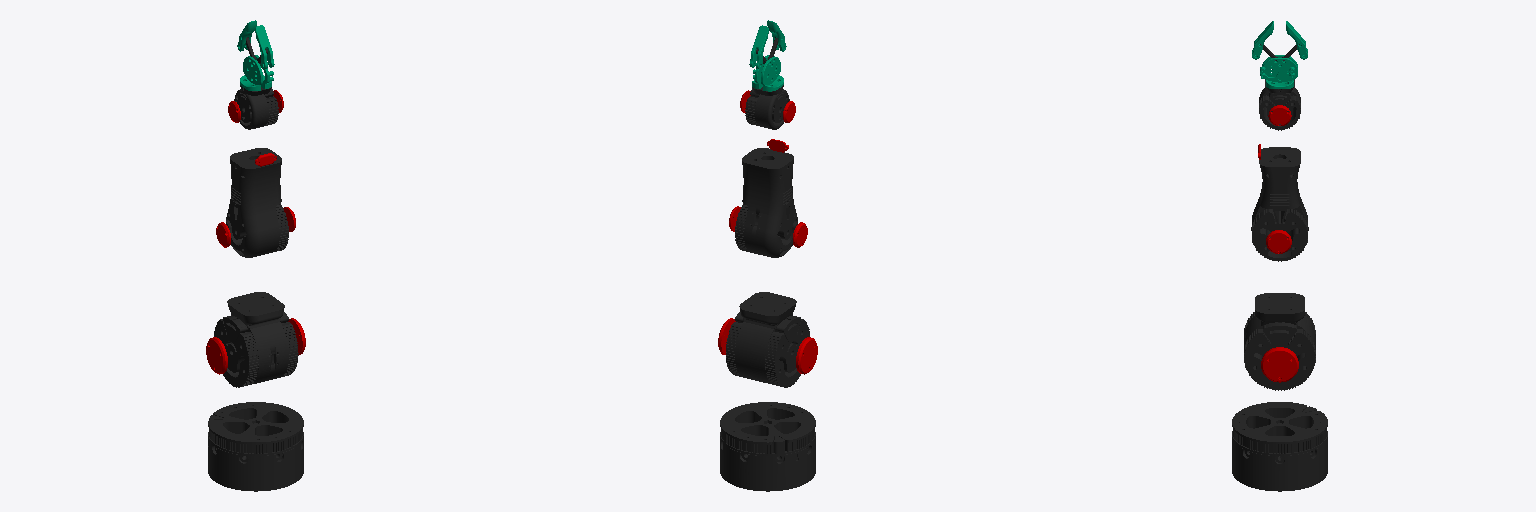
robot.urdf — moveotn:
<?xml version="1.0"?>
<!-- created with Phobos 0.7 -->
  <robot name="moveotn">

    <link name="base_link">
      <inertial>
        <origin xyz="0 0.033333 0.032917" rpy="0 0 0"/>
        <mass value="0.6"/>
        <inertia ixx="0.004398" ixy="0" ixz="0" iyy="0.001065" iyz="-4.2e-05" izz="0.005028"/>
      </inertial>
      <visual name="1M2.000">
        <origin xyz="0 0 0" rpy="0 0 0"/>
        <geometry>
          <mesh filename="package://moveo/meshes/dae/1M2.001.dae" scale="0.001 0.001 0.001"/>
        </geometry>
        <material name="cool"/>
      </visual>
      <visual name="1M3.001">
        <origin xyz="0 0.2 0" rpy="0 0 0"/>
        <geometry>
          <mesh filename="package://moveo/meshes/dae/1M3.dae" scale="0.001 0.001 0.001"/>
        </geometry>
        <material name="cool"/>
      </visual>
      <collision name="Cube">
        <origin xyz="0 0.2 0.035" rpy="0 0 0"/>
        <geometry>
          <box size="0.0753 0.0753 0.07"/>
        </geometry>
      </collision>
      <collision name="Cylinder">
        <origin xyz="0 0 0.0325" rpy="0 0 0"/>
        <geometry>
          <cylinder radius="0.08" length="0.065"/>
        </geometry>
      </collision>
    </link>

    <link name="elbow_link">
      <inertial>
        <origin xyz="0 0 0.0445" rpy="0 0 0"/>
        <mass value="1.2"/>
        <inertia ixx="0.003556" ixy="0" ixz="0" iyy="0.003551" iyz="0" izz="0.001176"/>
      </inertial>
      <visual name="3M2">
        <origin xyz="0 0 0" rpy="0 0 0"/>
        <geometry>
          <mesh filename="package://moveo/meshes/dae/3M2.dae" scale="0.001 0.001 0.001"/>
        </geometry>
        <material name="cool"/>
      </visual>
      <visual name="3M2C">
        <origin xyz="0 0 0" rpy="0 0 0"/>
        <geometry>
          <mesh filename="package://moveo/meshes/dae/3M2C.dae" scale="0.001 0.001 0.001"/>
        </geometry>
        <material name="cool"/>
      </visual>
      <collision name="Cube.002">
        <origin xyz="0 0 0.0885" rpy="0 0 0"/>
        <geometry>
          <box size="0.078 0.07 0.077"/>
        </geometry>
      </collision>
      <collision name="Cylinder.004">
        <origin xyz="0 0 0.0005" rpy="0 1.570796 0"/>
        <geometry>
          <cylinder radius="0.048" length="0.075"/>
        </geometry>
      </collision>
    </link>

    <link name="gripper">
      <inertial>
        <origin xyz="0 0 0.049375" rpy="0 0 0"/>
        <mass value="0.2"/>
        <inertia ixx="0.000791" ixy="0" ixz="0" iyy="0.000677" iyz="0" izz="0.000194"/>
      </inertial>
      <visual name="4M2">
        <origin xyz="0 0 0" rpy="0 0 0"/>
        <geometry>
          <mesh filename="package://moveo/meshes/dae/4M2.dae" scale="0.001 0.001 0.001"/>
        </geometry>
        <material name="cool"/>
      </visual>
      <visual name="4M2C">
        <origin xyz="0 0 0" rpy="0 0 0"/>
        <geometry>
          <mesh filename="package://moveo/meshes/dae/4M2C.dae" scale="0.001 0.001 0.001"/>
        </geometry>
        <material name="cool"/>
      </visual>
      <visual name="Bottom Plate">
        <origin xyz="0.003 0 0.041" rpy="0 0 0"/>
        <geometry>
          <mesh filename="package://moveo/meshes/dae/Bottom Plate.dae" scale="0.001 0.001 0.001"/>
        </geometry>
      </visual>
      <visual name="Gripper Left">
        <origin xyz="0 0.040287 0.095251" rpy="0 -0.895633 -1.570796"/>
        <geometry>
          <mesh filename="package://moveo/meshes/dae/Gripper Right.dae" scale="0.001 0.001 0.001"/>
        </geometry>
      </visual>
      <visual name="Gripper Right">
        <origin xyz="0 -0.040162 0.095217" rpy="0 -0.903294 1.570796"/>
        <geometry>
          <mesh filename="package://moveo/meshes/dae/Gripper Right.dae" scale="0.001 0.001 0.001"/>
        </geometry>
      </visual>
      <visual name="Idol Gear">
        <origin xyz="0 0.014 0.065" rpy="-0.715585 0 0"/>
        <geometry>
          <mesh filename="package://moveo/meshes/dae/Idol Gear.dae" scale="0.001 0.001 0.001"/>
        </geometry>
        <material name="cool"/>
      </visual>
      <visual name="Pivot Arm L">
        <origin xyz="0 -0.0202 0.1" rpy="0 0.861784 1.570796"/>
        <geometry>
          <mesh filename="package://moveo/meshes/dae/Pivot Arm.dae" scale="0.001 0.001 0.001"/>
        </geometry>
        <material name="cool"/>
      </visual>
      <visual name="Pivot Arm R">
        <origin xyz="0 0.0202 0.1" rpy="0 -0.862186 1.570796"/>
        <geometry>
          <mesh filename="package://moveo/meshes/dae/Pivot Arm.dae" scale="0.001 0.001 0.001"/>
        </geometry>
        <material name="cool"/>
      </visual>
      <visual name="Servo Gear">
        <origin xyz="0 -0.014 0.065" rpy="0.715585 0 0"/>
        <geometry>
          <mesh filename="package://moveo/meshes/dae/Servo Gear.dae" scale="0.001 0.001 0.001"/>
        </geometry>
        <material name="cool"/>
      </visual>
      <visual name="Top Plate">
        <origin xyz="-0.003 0 0.041" rpy="0 0 0"/>
        <geometry>
          <mesh filename="package://moveo/meshes/dae/Top Plate.dae" scale="0.001 0.001 0.001"/>
        </geometry>
      </visual>
      <collision name="Cube.004">
        <origin xyz="0 0 0.0985" rpy="0 0 0"/>
        <geometry>
          <box size="0.05 0.12 0.12"/>
        </geometry>
      </collision>
      <collision name="Cylinder.007">
        <origin xyz="0 0 0.00025" rpy="0 1.570796 0"/>
        <geometry>
          <cylinder radius="0.037" length="0.0475"/>
        </geometry>
      </collision>
    </link>

    <link name="shoulder_2">
      <inertial>
        <origin xyz="0 0 0.104987" rpy="0 0 0"/>
        <mass value="1.2"/>
        <inertia ixx="0.007927" ixy="0" ixz="0" iyy="0.008822" iyz="0" izz="0.002497"/>
      </inertial>
      <visual name="2M2H">
        <origin xyz="0 0 0" rpy="0 0 0"/>
        <geometry>
          <mesh filename="package://moveo/meshes/dae/2M2H.dae" scale="0.001 0.001 0.001"/>
        </geometry>
        <material name="cool"/>
      </visual>
      <visual name="2M2M">
        <origin xyz="0 0 0" rpy="0 0 0"/>
        <geometry>
          <mesh filename="package://moveo/meshes/dae/2M2M.dae" scale="0.001 0.001 0.001"/>
        </geometry>
        <material name="cool"/>
      </visual>
      <visual name="3M1">
        <origin xyz="0 0 0.078" rpy="0 0 0"/>
        <geometry>
          <mesh filename="package://moveo/meshes/dae/3M1.dae" scale="0.001 0.001 0.001"/>
        </geometry>
        <material name="cool"/>
      </visual>
      <visual name="Tapa3M1L">
        <origin xyz="0.06 -0.00174 0.2205" rpy="0 0 -1.570796"/>
        <geometry>
          <mesh filename="package://moveo/meshes/dae/Tapa3M1.001.dae" scale="0.001 0.001 0.001"/>
        </geometry>
        <material name="red"/>
      </visual>
      <visual name="Tapa3M1R">
        <origin xyz="-0.06 0 0.2205" rpy="0 0 1.570796"/>
        <geometry>
          <mesh filename="package://moveo/meshes/dae/Tapa3M1.dae" scale="0.001 0.001 0.001"/>
        </geometry>
        <material name="red"/>
      </visual>
      <collision name="Cube.001">
        <origin xyz="0 0 0.116764" rpy="0 0 0"/>
        <geometry>
          <box size="0.12399 0.084458 0.109527"/>
        </geometry>
      </collision>
      <collision name="Cylinder.003">
        <origin xyz="0 0 0.0005" rpy="0 1.570796 0"/>
        <geometry>
          <cylinder radius="0.06" length="0.095"/>
        </geometry>
      </collision>
      <collision name="Cylinder.006">
        <origin xyz="0.053 0 0.2205" rpy="0 1.570796 0"/>
        <geometry>
          <cylinder radius="0.048" length="0.026227"/>
        </geometry>
      </collision>
      <collision name="Cylinder.009">
        <origin xyz="-0.053 0 0.2205" rpy="0 1.570796 0"/>
        <geometry>
          <cylinder radius="0.048" length="0.026227"/>
        </geometry>
      </collision>
    </link>

    <link name="shoulder_link">
      <inertial>
        <origin xyz="0 0 0.073722" rpy="0 0 0"/>
        <mass value="0.9"/>
        <inertia ixx="0.004172" ixy="0" ixz="0" iyy="0.004842" iyz="0" izz="0.003269"/>
      </inertial>
      <visual name="1M1">
        <origin xyz="0 0 0" rpy="0 0 0"/>
        <geometry>
          <mesh filename="package://moveo/meshes/dae/1M1.dae" scale="0.001 0.001 0.001"/>
        </geometry>
        <material name="cool"/>
      </visual>
      <visual name="2M1">
        <origin xyz="0 0 0.0255" rpy="0 0 0"/>
        <geometry>
          <mesh filename="package://moveo/meshes/dae/2M1.dae" scale="0.001 0.001 0.001"/>
        </geometry>
        <material name="cool"/>
      </visual>
      <visual name="Tapa2M1L">
        <origin xyz="-0.072 0 0.1655" rpy="0 0 1.570796"/>
        <geometry>
          <mesh filename="package://moveo/meshes/dae/Tapa2M1.dae" scale="0.001 0.001 0.001"/>
        </geometry>
        <material name="red"/>
      </visual>
      <visual name="Tapa2M1R">
        <origin xyz="0.072 0 0.1655" rpy="0 0 -1.570796"/>
        <geometry>
          <mesh filename="package://moveo/meshes/dae/Tapa2M1.001.dae" scale="0.001 0.001 0.001"/>
        </geometry>
        <material name="red"/>
      </visual>
      <collision name="Cylinder.001">
        <origin xyz="0 0 0.0475" rpy="0 0 0"/>
        <geometry>
          <cylinder radius="0.08" length="0.095"/>
        </geometry>
      </collision>
      <collision name="Cylinder.002">
        <origin xyz="0.0645 0 0.1655" rpy="0 1.570796 0"/>
        <geometry>
          <cylinder radius="0.06" length="0.032"/>
        </geometry>
      </collision>
      <collision name="Cylinder.008">
        <origin xyz="-0.0645 0 0.1655" rpy="0 1.570796 0"/>
        <geometry>
          <cylinder radius="0.06" length="0.032"/>
        </geometry>
      </collision>
    </link>

    <link name="world">
    </link>

    <link name="wrist_1_link">
      <inertial>
        <origin xyz="0 0 0.044437" rpy="0 0 0"/>
        <mass value="0.8"/>
        <inertia ixx="0.001223" ixy="0" ixz="0" iyy="0.001461" iyz="0" izz="0.000866"/>
      </inertial>
      <visual name="4M1">
        <origin xyz="0 0 0" rpy="0 0 0"/>
        <geometry>
          <mesh filename="package://moveo/meshes/dae/4M1.dae" scale="0.001 0.001 0.001"/>
        </geometry>
        <material name="cool"/>
      </visual>
      <visual name="Tapa4M1L">
        <origin xyz="-0.04 0 0.09525" rpy="0 0 1.570796"/>
        <geometry>
          <mesh filename="package://moveo/meshes/dae/Tapa4M1.dae" scale="0.001 0.001 0.001"/>
        </geometry>
        <material name="red"/>
      </visual>
      <visual name="Tapa4M1R">
        <origin xyz="0.04 0 0.09525" rpy="0 0 -1.570796"/>
        <geometry>
          <mesh filename="package://moveo/meshes/dae/Tapa4M1.001.dae" scale="0.001 0.001 0.001"/>
        </geometry>
        <material name="red"/>
      </visual>
      <visual name="TapaTBB">
        <origin xyz="0 -0.031 0.010299" rpy="0 0 -3.141592"/>
        <geometry>
          <mesh filename="package://moveo/meshes/dae/TapaTBB.dae" scale="0.001 0.001 0.001"/>
        </geometry>
        <material name="red"/>
      </visual>
      <collision name="Cube.003">
        <origin xyz="0 0 0.0275" rpy="0 0 0"/>
        <geometry>
          <box size="0.078 0.07 0.055"/>
        </geometry>
      </collision>
      <collision name="Cylinder.005">
        <origin xyz="0.0348 0 0.09525" rpy="0 1.570796 0"/>
        <geometry>
          <cylinder radius="0.037159" length="0.01811"/>
        </geometry>
      </collision>
      <collision name="Cylinder.010">
        <origin xyz="-0.0348 0 0.09525" rpy="0 1.570796 0"/>
        <geometry>
          <cylinder radius="0.037159" length="0.01811"/>
        </geometry>
      </collision>
    </link>

    <joint name="elbow" type="revolute">
      <origin xyz="0 0 0.22" rpy="0 0 0"/>
      <parent link="shoulder_2"/>
      <child link="elbow_link"/>
      <axis xyz="1.0 0 0"/>
      <limit lower="-2.181662" upper="2.181662" effort="0" velocity="0"/>
    </joint>

    <joint name="fixed" type="fixed">
      <origin xyz="0 0 0" rpy="0 0 0"/>
      <parent link="world"/>
      <child link="base_link"/>
    </joint>

    <joint name="hand" type="revolute">
      <origin xyz="0 0 0.1275" rpy="0 0 0"/>
      <parent link="elbow_link"/>
      <child link="wrist_1_link"/>
      <axis xyz="0 0 1.0"/>
      <limit lower="-3.14" upper="3.14" effort="0" velocity="0"/>
    </joint>

    <joint name="hip" type="revolute">
      <origin xyz="0 0 0.065" rpy="0 0 0"/>
      <parent link="base_link"/>
      <child link="shoulder_link"/>
      <axis xyz="0 0 1.0"/>
      <limit lower="-3.14" upper="3.14" effort="0" velocity="0"/>
    </joint>

    <joint name="shoulder" type="revolute">
      <origin xyz="0 0 0.165" rpy="0 0 0"/>
      <parent link="shoulder_link"/>
      <child link="shoulder_2"/>
      <axis xyz="1.0 0 0"/>
      <limit lower="-2.024582" upper="2.024582" effort="0" velocity="0"/>
    </joint>

    <joint name="wrist" type="revolute">
      <origin xyz="0 0 0.095" rpy="0 0 0"/>
      <parent link="wrist_1_link"/>
      <child link="gripper"/>
      <axis xyz="1.0 0 0"/>
      <limit lower="-1.954769" upper="1.954769" effort="0" velocity="0"/>
    </joint>

    <transmission name="tran0">
        <type>transmission_interface/SimpleTransmission</type>
        <joint name="hip">
            <hardwareInterface>PositionJointInterface</hardwareInterface>
        </joint>
        <actuator name="motor0">
            <hardwareInterface>PositionJointInterface</hardwareInterface>
            <mechanicalReduction>1</mechanicalReduction>
        </actuator>
    </transmission>

    <transmission name="tran1">
        <type>transmission_interface/SimpleTransmission</type>
        <joint name="shoulder">
            <hardwareInterface>PositionJointInterface</hardwareInterface>
        </joint>
        <actuator name="motor1">
            <hardwareInterface>PositionJointInterface</hardwareInterface>
            <mechanicalReduction>1</mechanicalReduction>
        </actuator>
    </transmission>

    <transmission name="tran2">
        <type>transmission_interface/SimpleTransmission</type>
        <joint name="elbow">
            <hardwareInterface>PositionJointInterface</hardwareInterface>
        </joint>
        <actuator name="motor2">
            <hardwareInterface>PositionJointInterface</hardwareInterface>
            <mechanicalReduction>1</mechanicalReduction>
        </actuator>
    </transmission>

    <transmission name="tran3">
        <type>transmission_interface/SimpleTransmission</type>
        <joint name="hand">
            <hardwareInterface>PositionJointInterface</hardwareInterface>
        </joint>
        <actuator name="motor3">
            <hardwareInterface>PositionJointInterface</hardwareInterface>
            <mechanicalReduction>1</mechanicalReduction>
        </actuator>
    </transmission>

    <transmission name="tran4">
        <type>transmission_interface/SimpleTransmission</type>
        <joint name="wrist">
            <hardwareInterface>PositionJointInterface</hardwareInterface>
        </joint>
        <actuator name="motor4">
            <hardwareInterface>PositionJointInterface</hardwareInterface>
            <mechanicalReduction>1</mechanicalReduction>
        </actuator>
    </transmission>

    
    <gazebo>
        <plugin name="control" filename="libgazebo_ros_control.so"/>
    </gazebo>
    
    <gazebo>
        <plugin name="joint_state_publisher" filename="libgazebo_ros_joint_state_publisher.so">
            <jointName>hip, shoulder, elbow, hand, wrist</jointName>
        </plugin>
    </gazebo>

    <material name="cool">
      <color rgba="0.186412 0.186412 0.186412 1.0"/>
    </material>

    <material name="red">
      <color rgba="0.8 0 0 1.0"/>
    </material>

  </robot>

--- What the picture shows (computed from the rendered views, not written in the file) ---
Views: 3 orthographic renders of the robot side by side, from view 1: azimuth 30°, elevation 25°; view 2: azimuth 150°, elevation 25°; view 3: azimuth 270°, elevation 25°.
Model moveotn with 7 links and 6 joints (5 revolute, 1 fixed), rooted at world, posed all joints at 0.
Links seen in each view (by area): view 1: shoulder_2, elbow_link, shoulder_link, base_link, gripper, wrist_1_link; view 2: shoulder_2, elbow_link, shoulder_link, base_link, gripper, wrist_1_link; view 3: shoulder_link, shoulder_2, elbow_link, base_link, gripper.
Link boxes in pixels (x1,y1,x2,y2): shoulder_2: [214, 207, 298, 387]; elbow_link: [226, 148, 288, 257]; shoulder_link: [206, 318, 305, 455]; base_link: [208, 438, 303, 491]; gripper: [234, 20, 278, 129]; wrist_1_link: [228, 90, 283, 166]; shoulder_2: [726, 206, 809, 387]; elbow_link: [735, 148, 797, 257]; shoulder_link: [718, 318, 817, 455]; base_link: [720, 438, 815, 491]; gripper: [745, 20, 789, 129]; wrist_1_link: [740, 90, 795, 152]; shoulder_link: [1232, 347, 1327, 455]; shoulder_2: [1244, 230, 1315, 390]; elbow_link: [1251, 147, 1308, 261]; base_link: [1232, 439, 1327, 491]; gripper: [1252, 21, 1307, 130].
Size in the robot's own frame: 0.16 by 0.16 by 0.8266 metres.
21 mesh visuals loaded from 25 distinct referenced files (19 Collada DAE); not drawn: 6 (reference not matched to a file when rendering).
